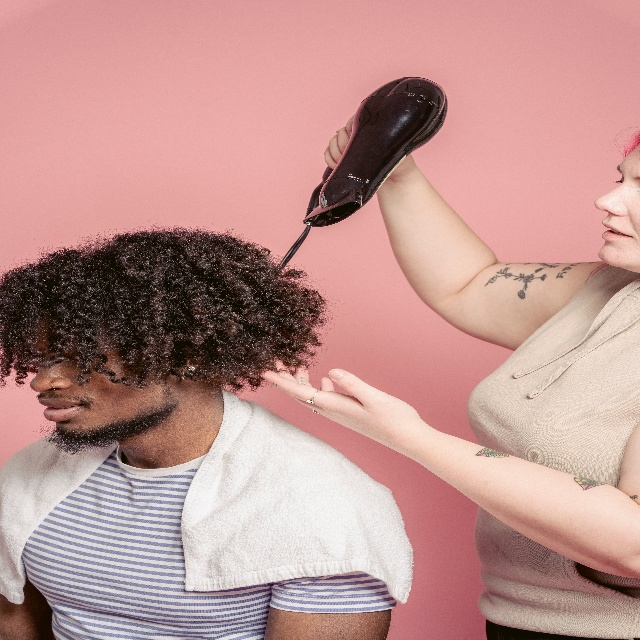Sin_guantes: (261, 362, 423, 456), (324, 114, 355, 171)
